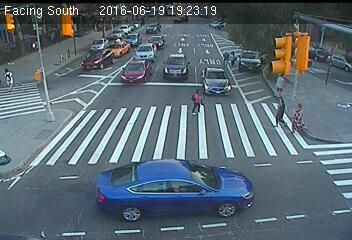neg: (208, 178, 250, 234), (158, 173, 192, 217), (93, 44, 119, 78), (92, 177, 112, 204), (285, 34, 305, 61), (149, 26, 168, 50), (230, 7, 248, 32), (60, 39, 74, 58), (253, 46, 266, 64)
pos: (287, 98, 316, 137), (263, 94, 289, 129), (184, 84, 209, 117), (272, 68, 295, 98), (225, 44, 241, 66), (220, 48, 234, 66)
